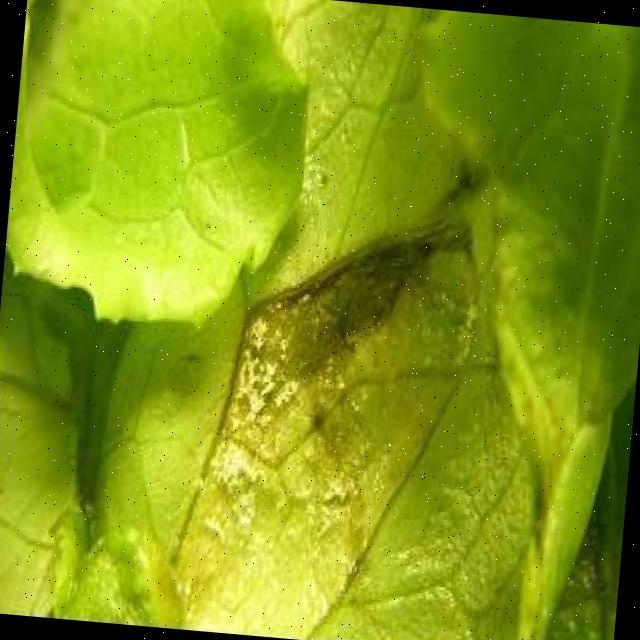Bacterial: (210, 198, 505, 540)
